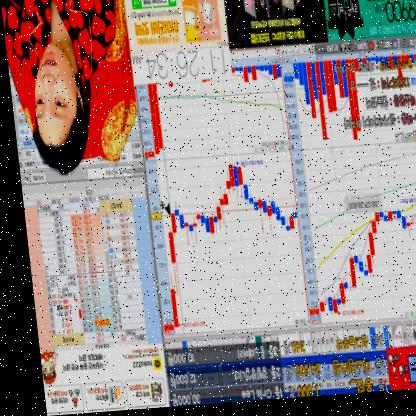streamer: (0, 0, 130, 177)
